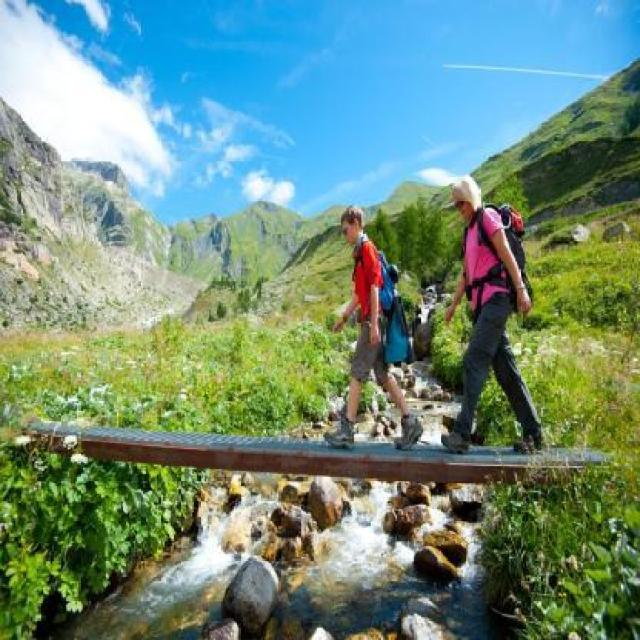backpack: (374, 242, 418, 372), (495, 198, 537, 317)
